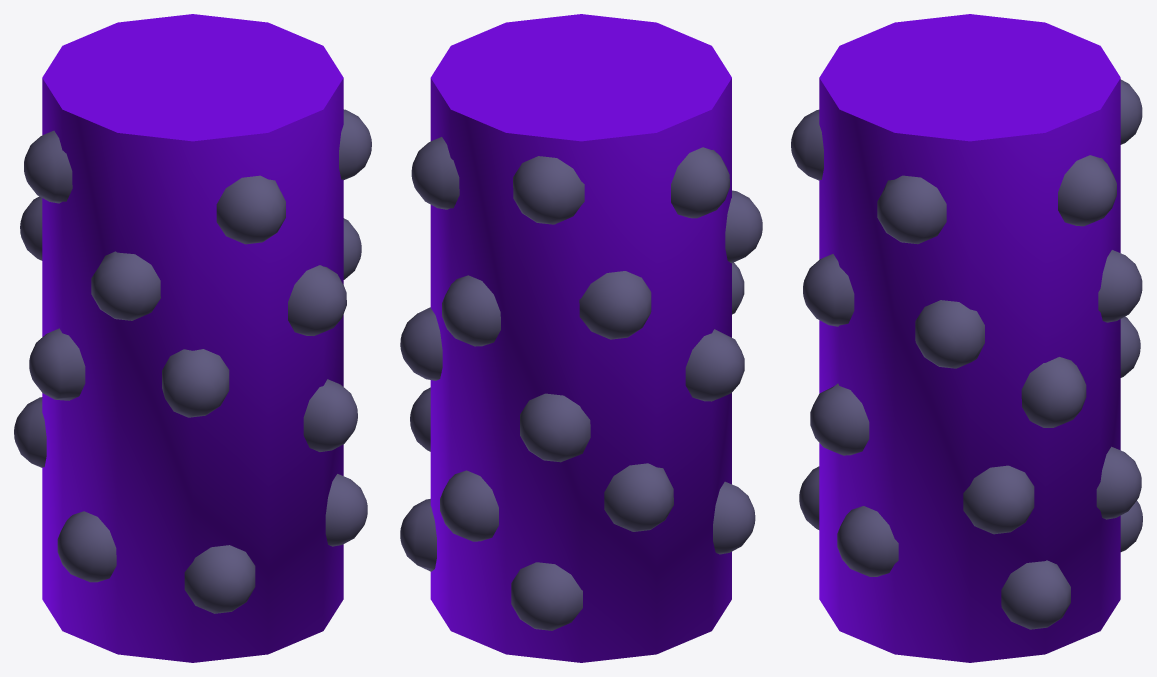
Rendered from Cylinder_With_Bubbles.fbx.
3 views of the same model, side by side, from view 1: azimuth 30°, elevation 25°; view 2: azimuth 150°, elevation 25°; view 3: azimuth 270°, elevation 25° (orthographic).
Parts seen in each view (by area): view 1: cylinder with bubbles; view 2: cylinder with bubbles; view 3: cylinder with bubbles.
Boxes of the visible parts, left/top/right/bottom form: cylinder with bubbles: left=14, top=14, right=371, bottom=662; cylinder with bubbles: left=400, top=14, right=762, bottom=662; cylinder with bubbles: left=791, top=14, right=1142, bottom=662.
Size of the model in its own units: 115 by 183 by 112.
